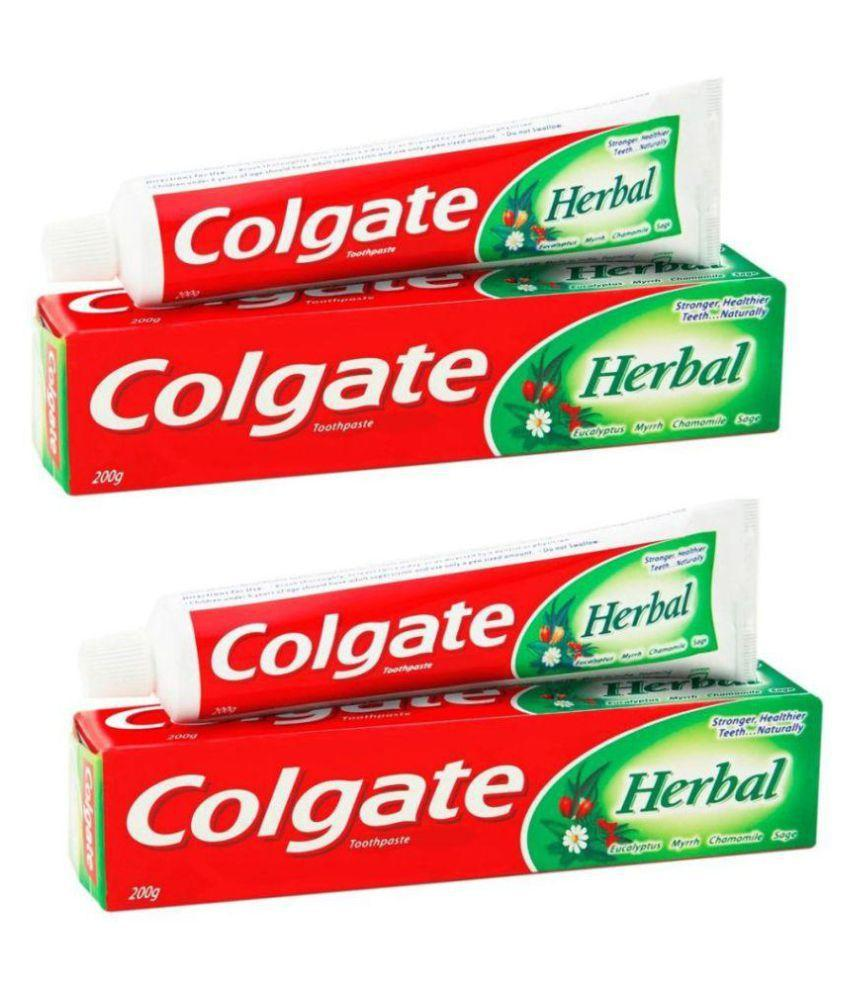toothpaste: (21, 227, 811, 511), (53, 657, 831, 930), (37, 65, 757, 310), (66, 479, 779, 725)
